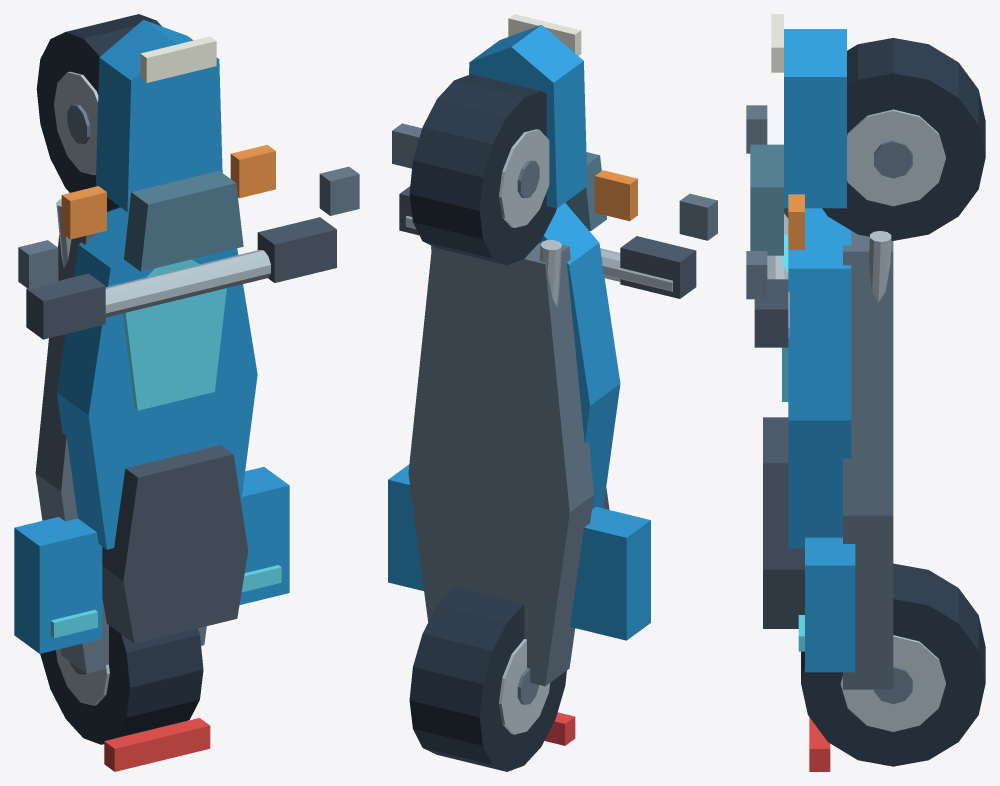
The model's file is Motorcycle.glb.
3 renders of one model, left to right at view 1: azimuth 30°, elevation 25°; view 2: azimuth 150°, elevation 25°; view 3: azimuth 270°, elevation 25°, orthographic. The views are drawn at different scales.
Visible parts, largest first — view 1: Motorcycle; view 2: Motorcycle; view 3: Motorcycle.
Boxes of the visible parts, <box> form: Motorcycle: <box>14,14,359,771</box>; Motorcycle: <box>388,14,717,771</box>; Motorcycle: <box>746,14,985,771</box>.
Size of the model in its own units: 0.9 by 1.89 by 0.57.
